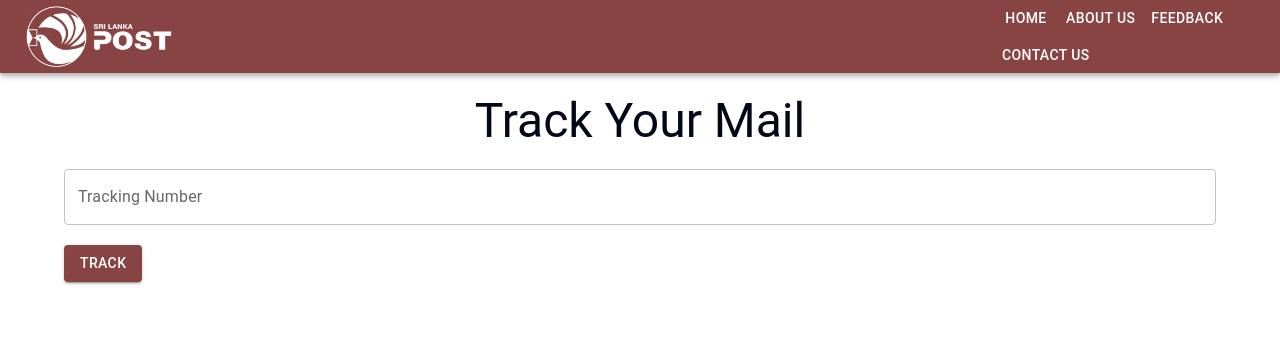
Test: Track Your Mail Page › should show an error for invalid input (non-numeric tracking number)
Type "abc" into the field labelled "Tracking Number". click: (640, 197)
box: [64,169,1216,225]
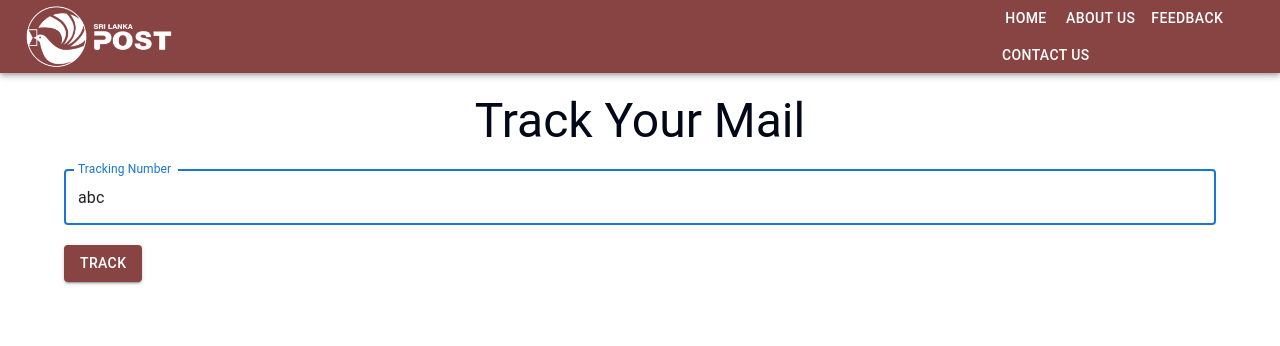
// Click the Track button
Click the button "Track". click: (103, 264)
box: [64,245,142,282]
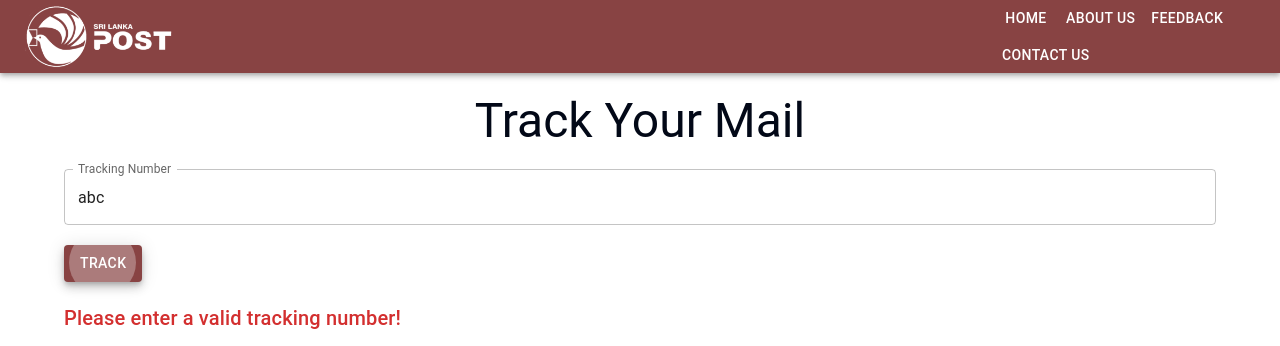
Expected: the heading "Please enter a valid tracking number!" is shown, [64,306,401,330]
